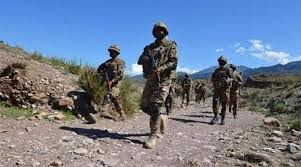gun: (142, 44, 163, 87), (102, 61, 111, 95)
uniform: (138, 37, 184, 136), (99, 56, 123, 116), (212, 65, 232, 121), (184, 71, 195, 108), (197, 80, 207, 106)
